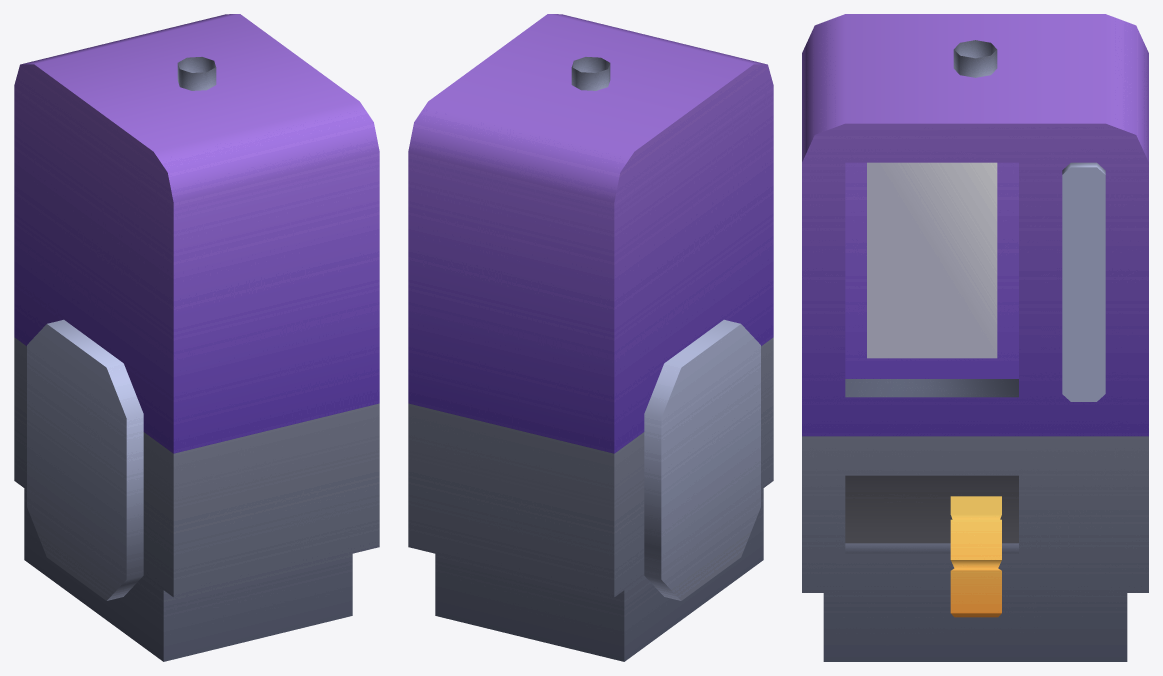
Rendered from ticket-machine.002_lev2.glb.
The picture shows the model from 3 angles, left to right: view 1: azimuth 30°, elevation 25°; view 2: azimuth 150°, elevation 25°; view 3: azimuth 270°, elevation 25°; orthographic projection. The views are drawn at different scales.
Visible parts, largest first — view 1: ticket-machine.002_lev2; view 2: ticket-machine.002_lev2; view 3: ticket-machine.002_lev2.
Boxes of the visible parts, x1,y1,x2,y2 form: ticket-machine.002_lev2: (14, 14, 379, 661); ticket-machine.002_lev2: (408, 14, 773, 661); ticket-machine.002_lev2: (802, 14, 1148, 661).
Size of the model in its own units: 1.59 by 2.91 by 1.61.
Materials: 1 (1 with a texture image).
